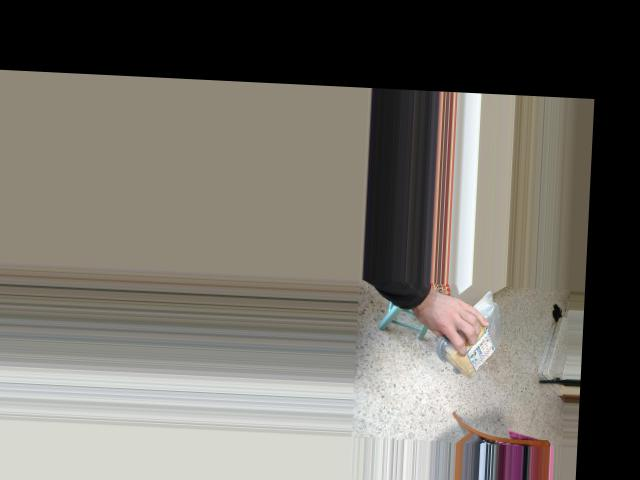cheese: (451, 288, 499, 389)
